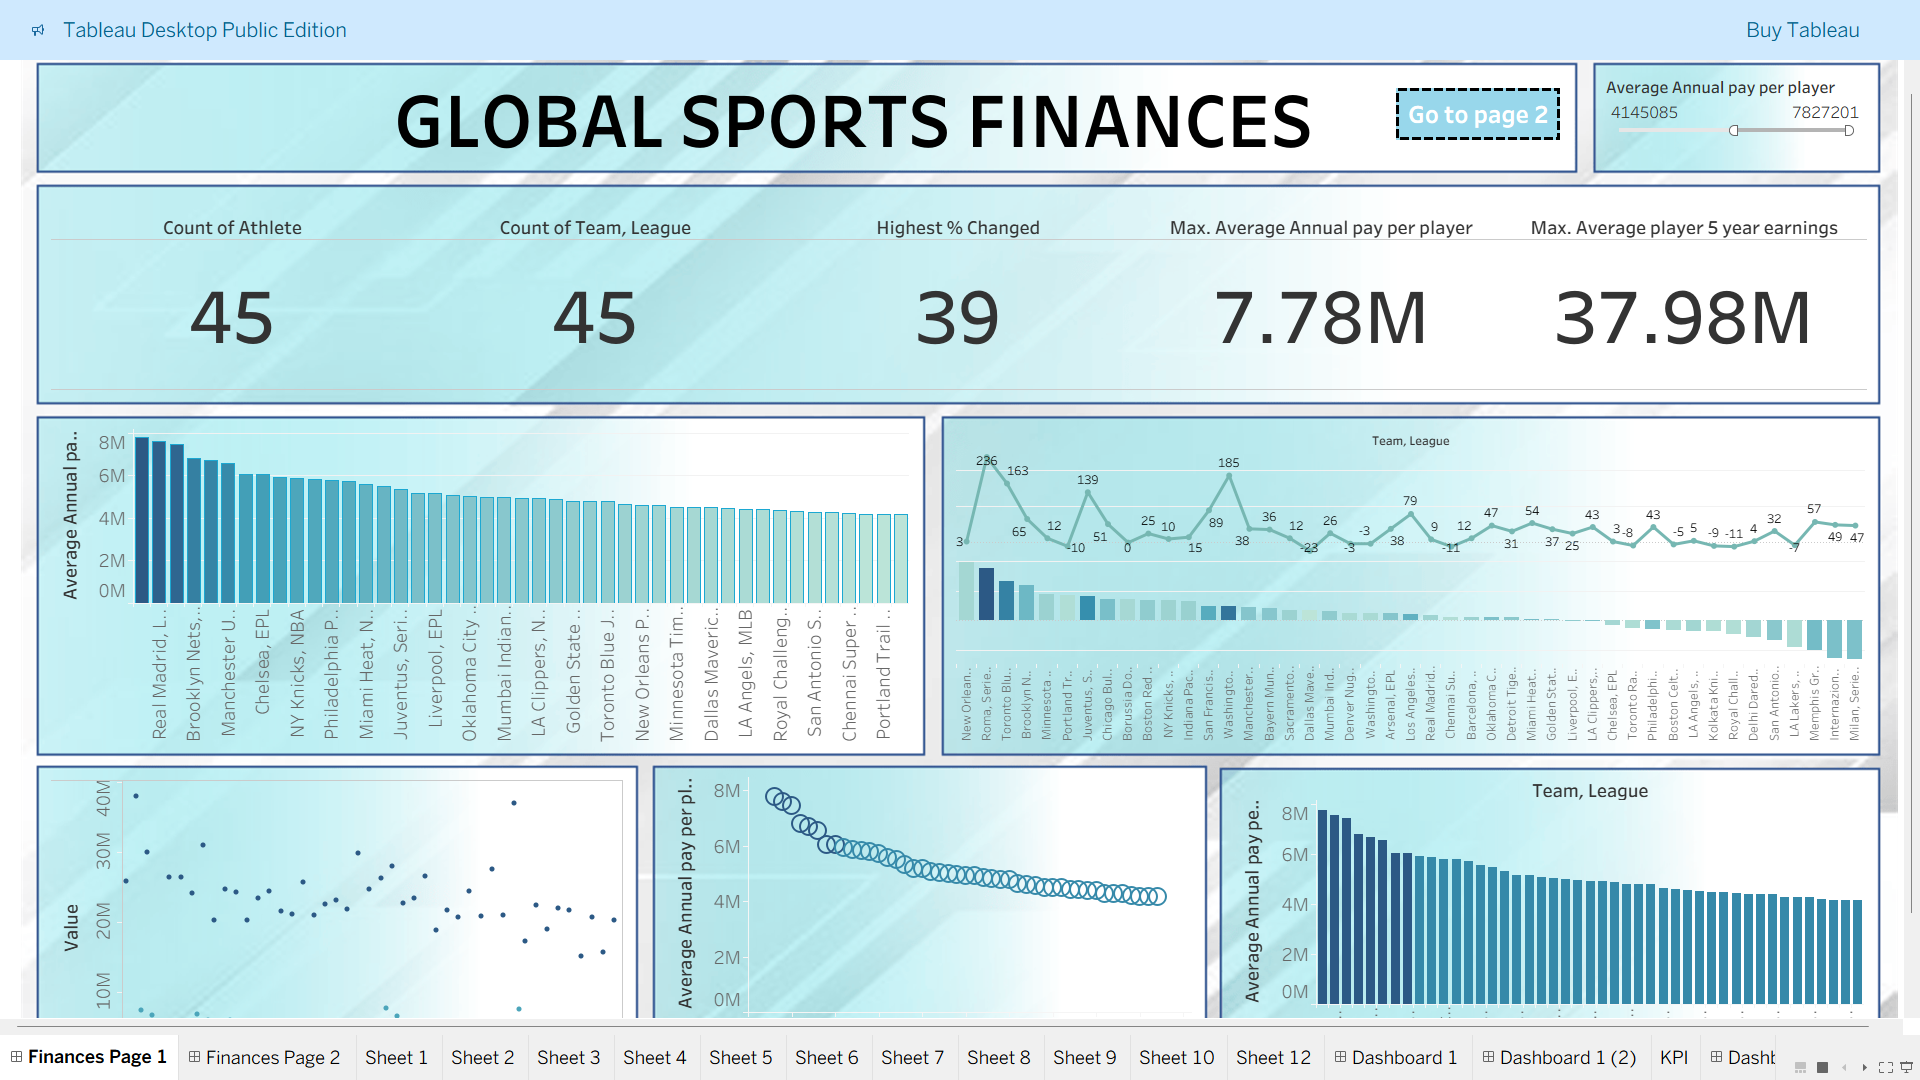

What the dashboard file says about the page in this screenshot:
{"tool":"tableau","page":{"name":"Finances Page 1","canvas":[1920,1080],"ordinal":3},"visuals":[{"type":"image","param":"Image/Tableau-project 2.png","box":[8,8,1904,1064]},{"type":"filter","title":"Sheet 5","param":"[federated.1chhp6713ip89f1733oz61lpw94w].[none:Average Annual pay per player:qk]","box":[1606,36,260,85]},{"type":"text","box":[390,39,927,77]},{"type":"dashboard-object","box":[1396,48,164,52]},{"type":"worksheet","title":"KPI","mark":"Automatic","box":[51,159,1816,191]},{"type":"worksheet","title":"Sheet 1","mark":"Automatic","rows":["Average Annual pay per player"],"cols":["Team, League"],"box":[50,389,859,314]},{"type":"worksheet","title":"Sheet 4","mark":"Automatic","rows":["% change over last 5 years","% change from last year's survey"],"cols":["Team, League"],"box":[956,390,909,312]},{"type":"worksheet","title":"Sheet 9","mark":"Shape","rows":["Average Annual pay per player"],"cols":["Rank"],"box":[665,737,527,306]},{"type":"worksheet","title":"Sheet 2","mark":"Shape","cols":["Team, League"],"box":[51,740,572,299]},{"type":"worksheet","title":"Sheet 5","mark":"Bar","rows":["Average Annual pay per player"],"cols":["Team, League"],"box":[1232,740,632,300]}]}

Visuals, with their boxes on the page's 1920x1080 design canvas (x1, y1, x2, y2). These are canvas units, not pixel positions in the 1920x1080 screenshot, which may show the page scaled, cropped or inside an application window:
image: (8, 8, 1912, 1072)
"Sheet 5" filter: (1606, 36, 1866, 121)
text: (390, 39, 1317, 116)
dashboard-object: (1396, 48, 1560, 100)
"KPI" worksheet: (51, 159, 1867, 350)
"Sheet 1" worksheet: (50, 389, 909, 703)
"Sheet 4" worksheet: (956, 390, 1865, 702)
"Sheet 9" worksheet (Shape marks): (665, 737, 1192, 1043)
"Sheet 2" worksheet (Shape marks): (51, 740, 623, 1039)
"Sheet 5" worksheet (Bar marks): (1232, 740, 1864, 1040)
